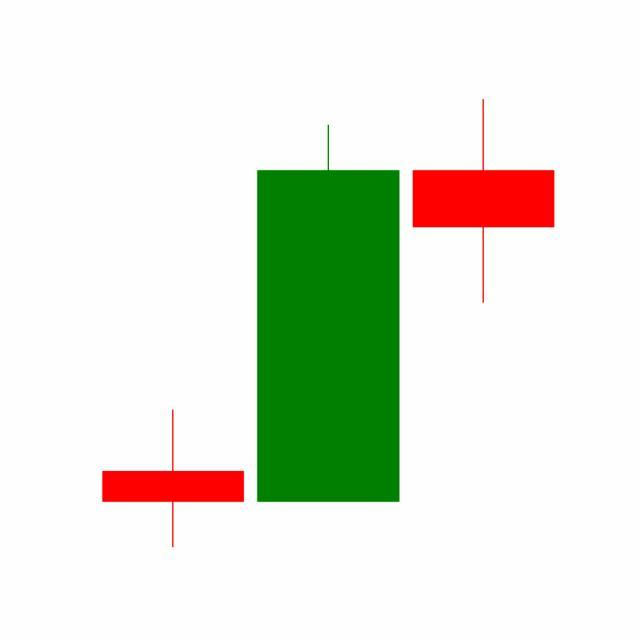Spinning Top: (406, 98, 562, 306)
